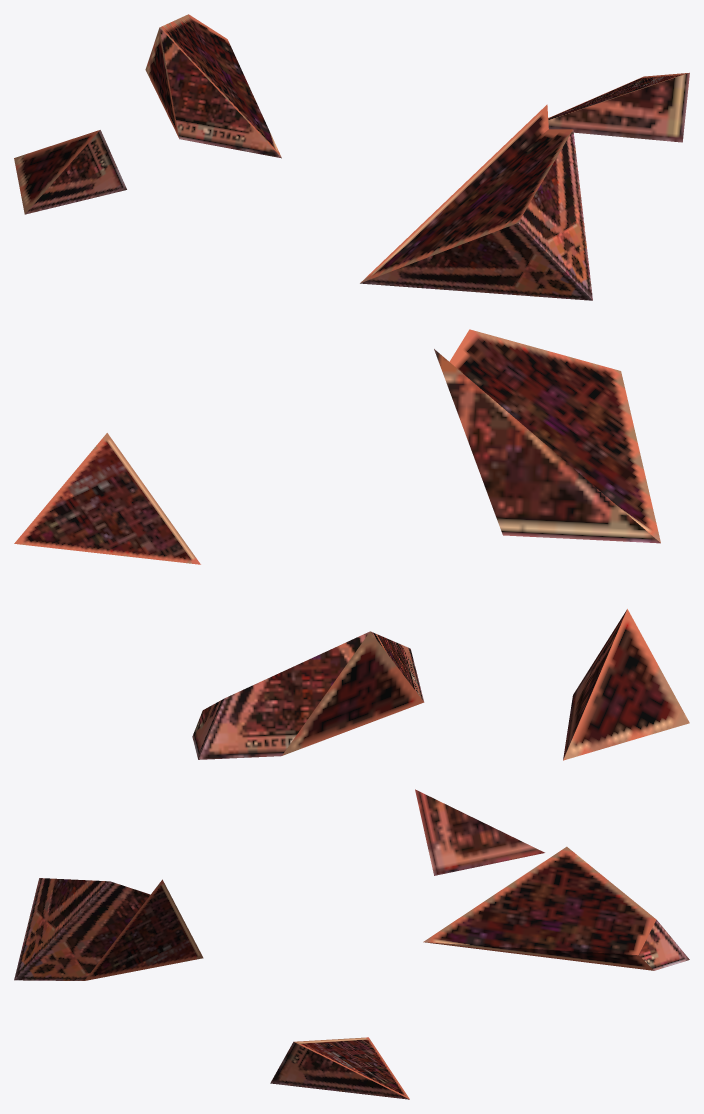
Rendered from thm_prp_holocron_splinters.fbx.
3 views of the same model, one above another, from view 1: azimuth 30°, elevation 25°; view 2: azimuth 150°, elevation 25°; view 3: azimuth 270°, elevation 25° (orthographic). The views are drawn at different scales.
Parts seen in each view (by area): view 1: mesh_node; view 2: mesh_node; view 3: mesh_node.
Boxes of the visible parts, x1=… form: mesh_node: x1=14, y1=14, x2=689, y2=300; mesh_node: x1=14, y1=329, x2=689, y2=760; mesh_node: x1=14, y1=789, x2=689, y2=1099.
Size of the model in its own units: 0.2424 by 0.0494 by 0.257.
